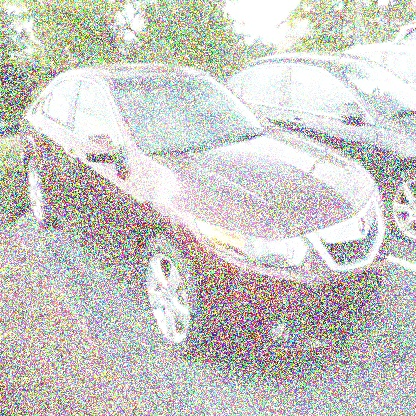Vehicle: (22, 65, 390, 365)
